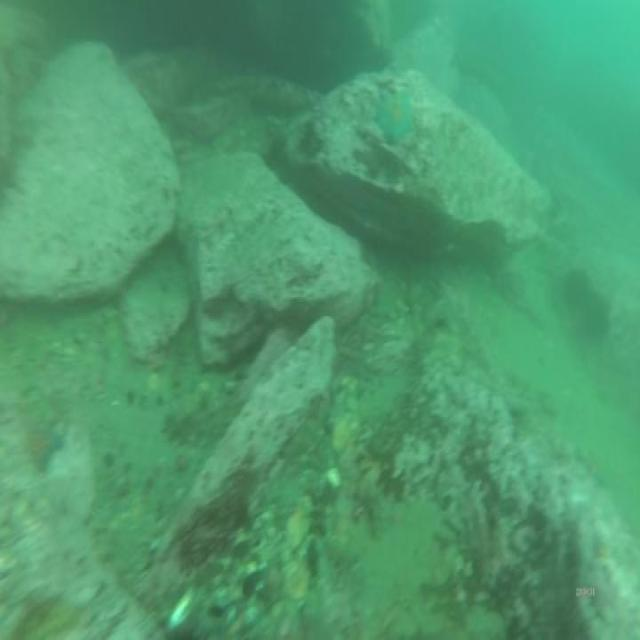echinus: (582, 294, 606, 335), (564, 270, 586, 308)
starfish: (377, 93, 412, 142), (28, 422, 62, 471)
